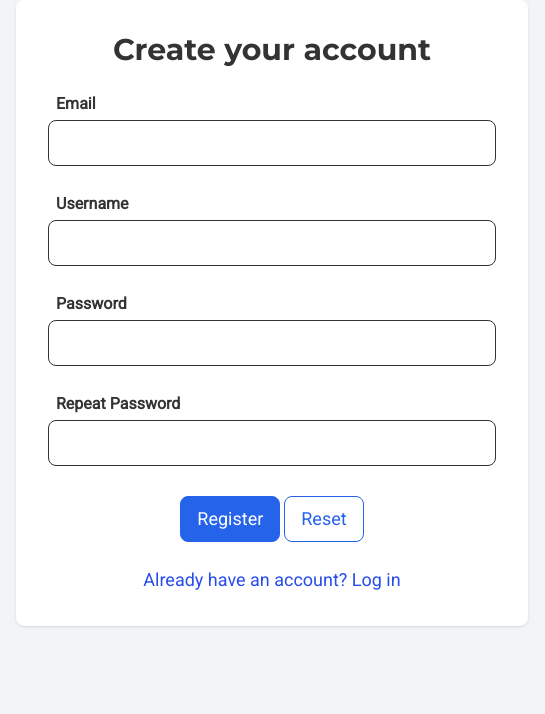
Test case: Register Page › Shows backend errors
Type "email@email.com" into the field labelled "Email".
click(272, 143); type("email@email.com")  # box x1=48 y1=120 x2=496 y2=166
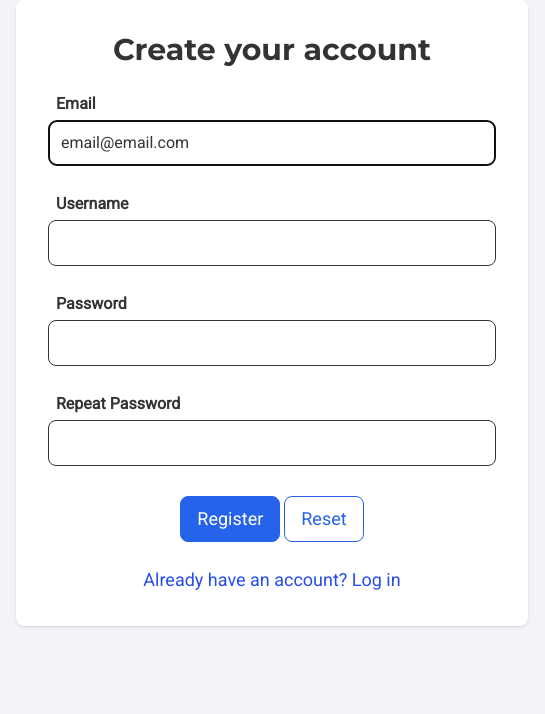
Type "username" into the field labelled "Username".
click(272, 243); type("username")  # box x1=48 y1=220 x2=496 y2=266
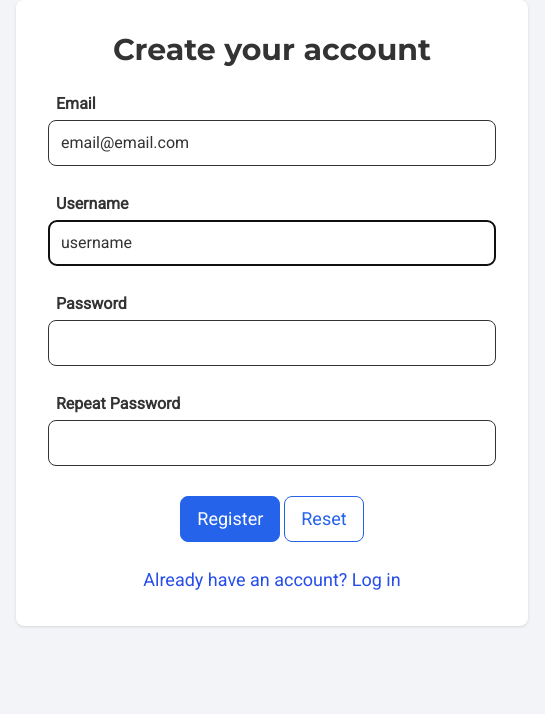
Type "Password123" into the password field labelled "Password".
click(272, 343); type("Password123")  # box x1=48 y1=320 x2=496 y2=366
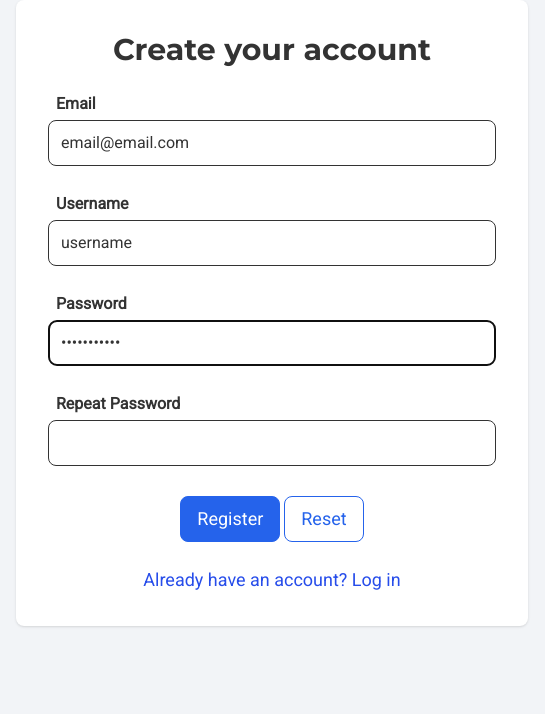
Type "Password123" into the password field labelled "Repeat Password".
click(272, 443); type("Password123")  # box x1=48 y1=420 x2=496 y2=466
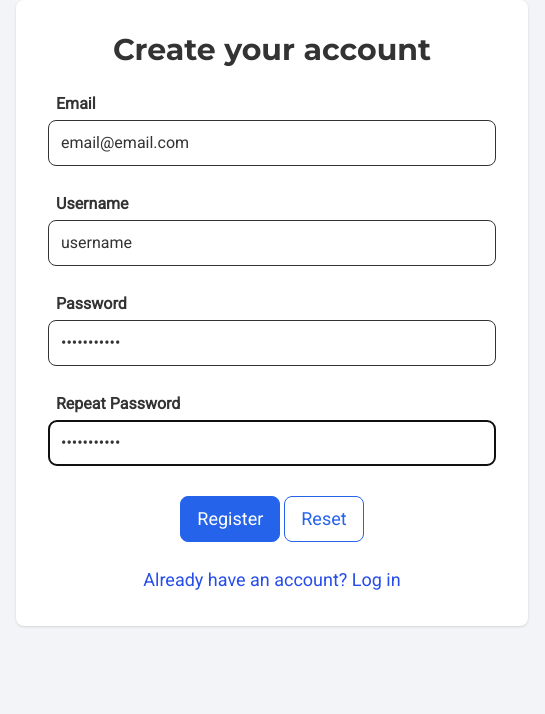
Click the button "Register".
click(230, 519)  # box x1=180 y1=496 x2=280 y2=542
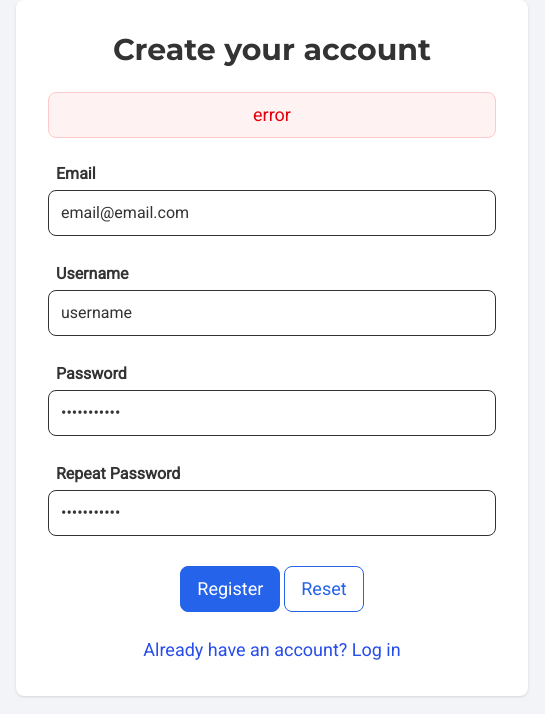
Now the heading "error" is shown, box x1=253 y1=104 x2=291 y2=125
